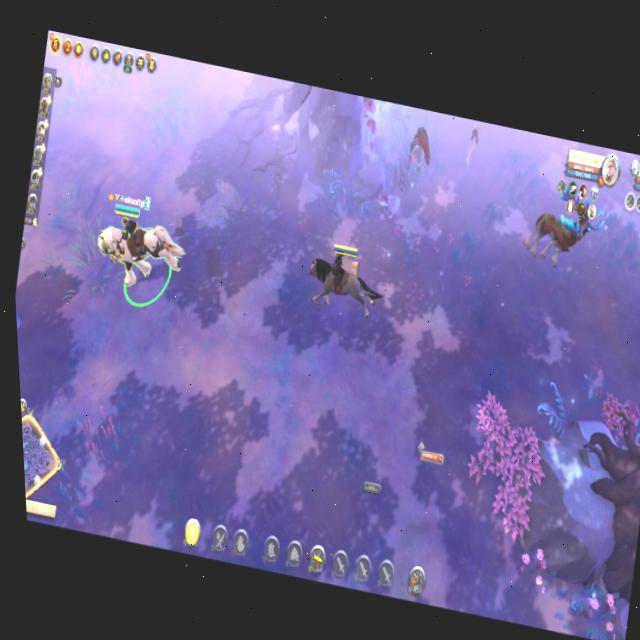ore: (514, 177, 617, 281), (397, 113, 441, 184), (452, 119, 488, 175)
red: (78, 180, 202, 318), (292, 223, 394, 333)
